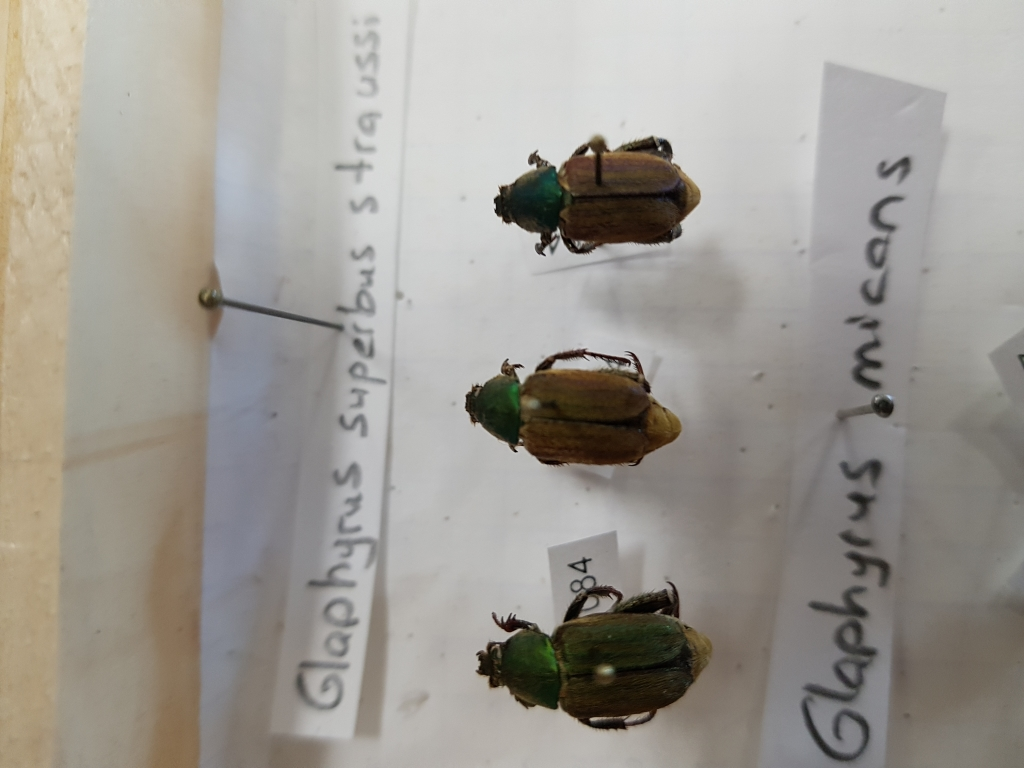Glaphyrus_superbus: (459, 560, 740, 748), (459, 338, 684, 476), (493, 133, 713, 273)
